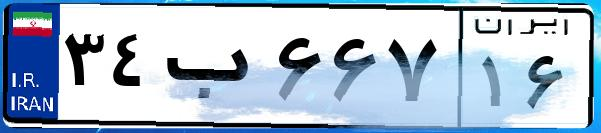1: (475, 38, 525, 113)
3: (57, 26, 110, 100)
4: (110, 28, 158, 98)
6: (270, 28, 330, 110), (330, 28, 385, 110), (525, 38, 570, 115)
7: (385, 28, 445, 110)
ب: (158, 20, 270, 120)
